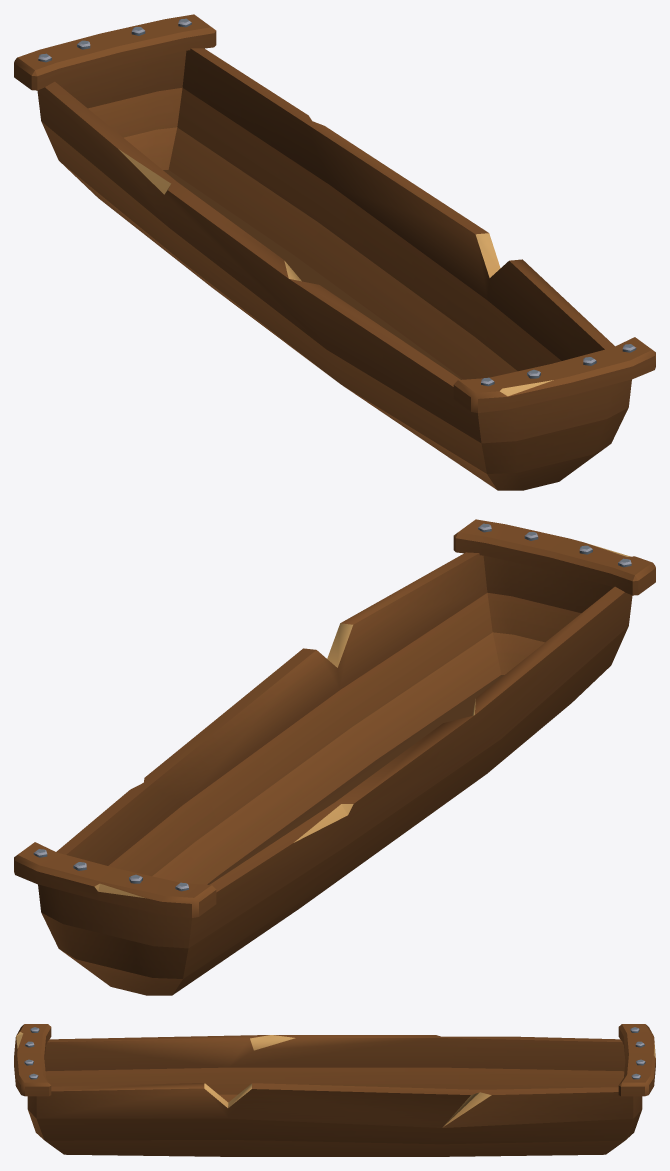
Rendered from Trough_1_E.glb.
3 renders of one model, top to bottom at view 1: azimuth 30°, elevation 25°; view 2: azimuth 150°, elevation 25°; view 3: azimuth 270°, elevation 25°, orthographic. The views are drawn at different scales.
Visible parts, largest first — view 1: Trough_1_E; view 2: Trough_1_E; view 3: Trough_1_E.
Boxes of the visible parts, left/top/right/bottom form: Trough_1_E: left=14, top=14, right=655, bottom=490; Trough_1_E: left=14, top=519, right=655, bottom=995; Trough_1_E: left=14, top=1024, right=655, bottom=1156.
Bounding box in the file's own units: 0.7368 × 0.509 × 3.25.
2 materials, 2 textured.
